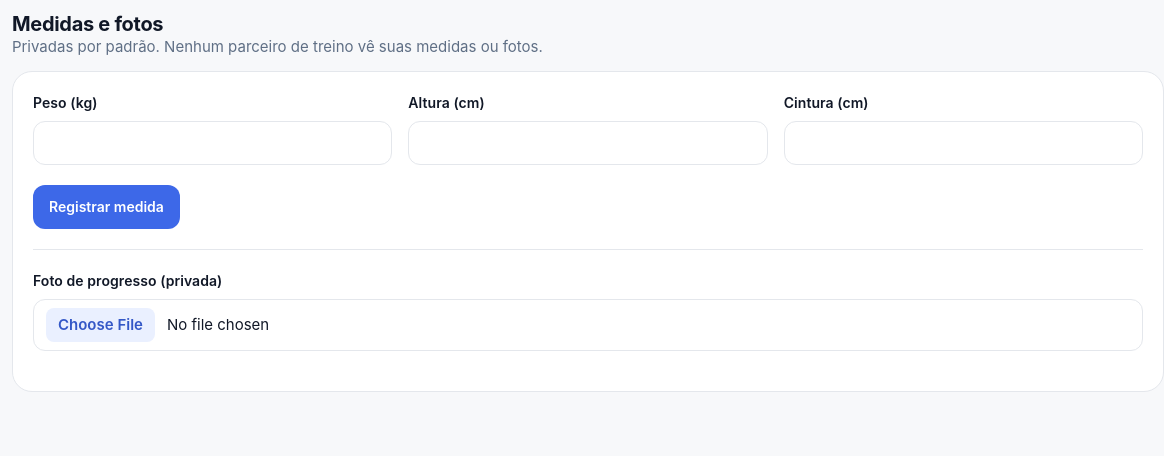
Test case: MeasurementsPanel › keeps invalid values out of the history
Type "5" into the field labelled "Peso (kg)" at (213, 142), box x1=33 y1=120 x2=392 y2=164
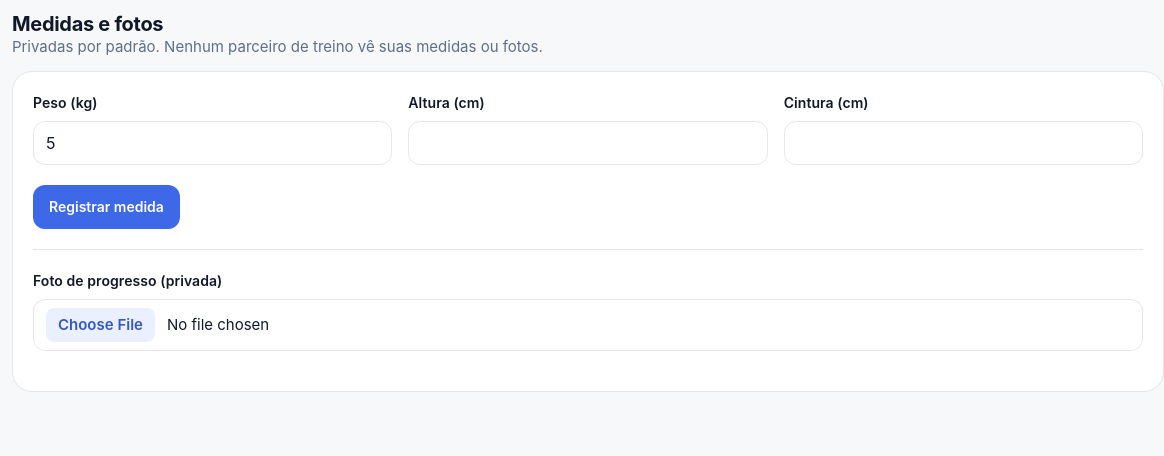
Click the button "Registrar medida" at (106, 206), box x1=33 y1=184 x2=180 y2=228
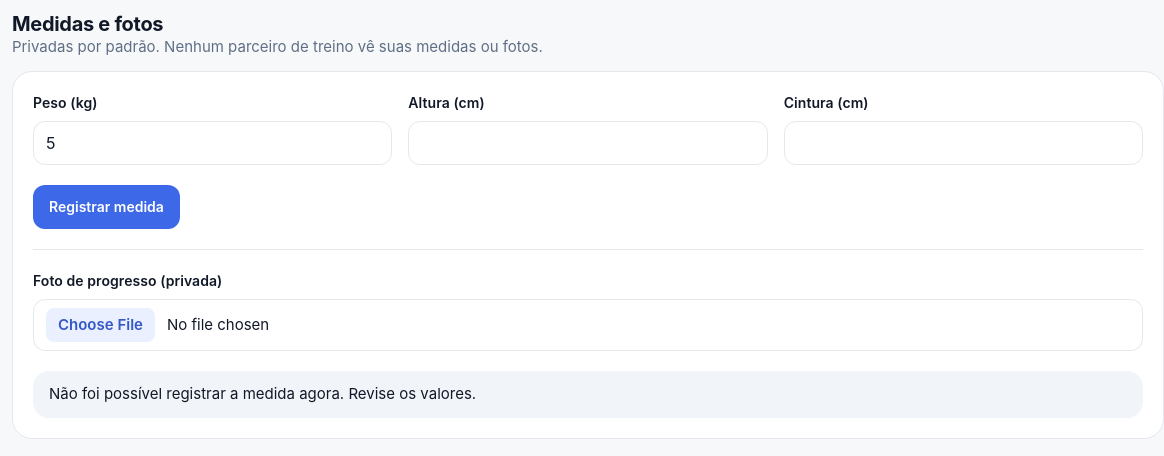
Now the text "Não foi possível registrar a medida agora. Revise os valores." is shown, box x1=33 y1=371 x2=1143 y2=418
